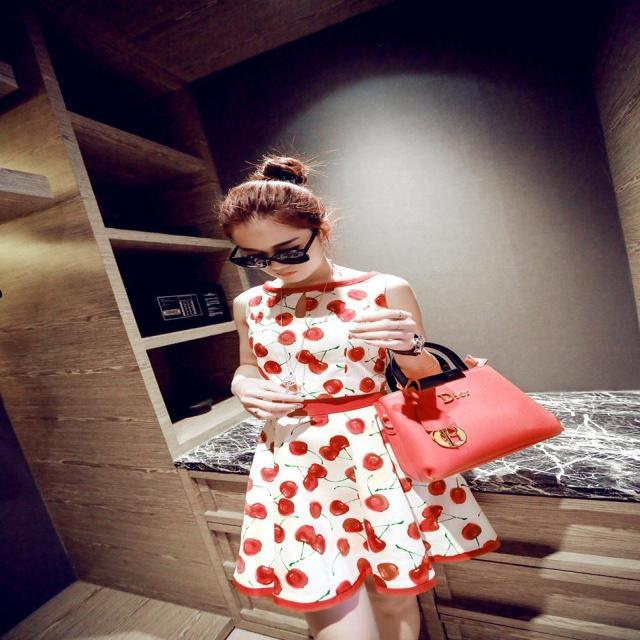vest dress: (235, 271, 505, 591)
